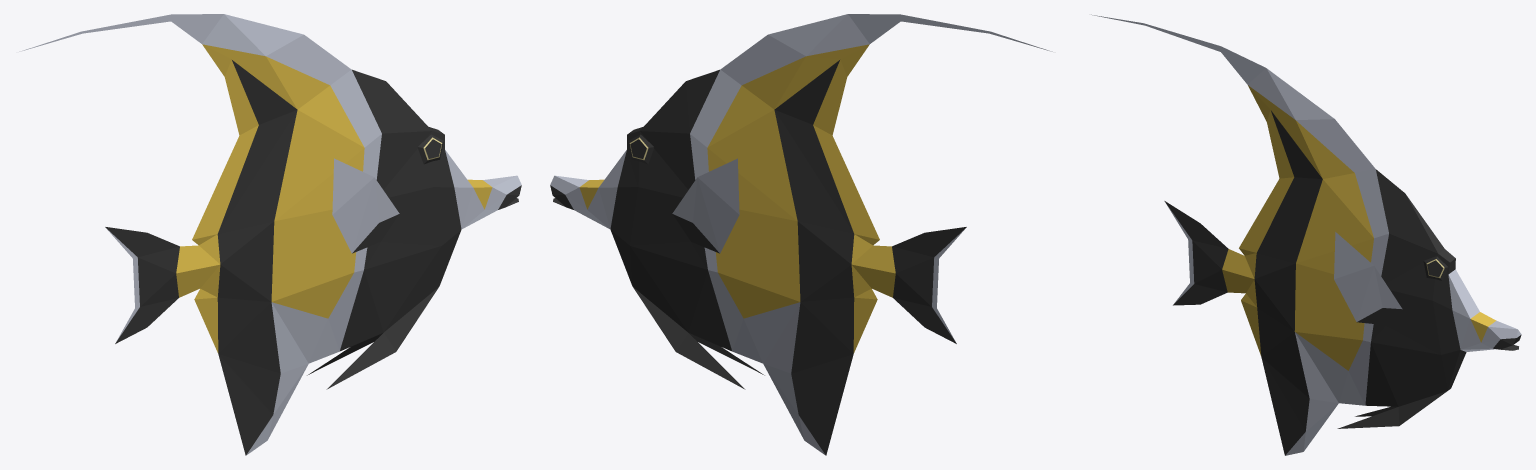
Rendered from Moorish Idol.fbx.
The picture shows the model from 3 angles, left to right: view 1: azimuth 30°, elevation 25°; view 2: azimuth 150°, elevation 25°; view 3: azimuth 330°, elevation 25°; orthographic projection. The views are drawn at different scales.
Visible parts, largest first — view 1: Moorish Idol; view 2: Moorish Idol; view 3: Moorish Idol.
Boxes of the visible parts, box(x1,y1,x2,y2) form: Moorish Idol: box(19, 14, 521, 455); Moorish Idol: box(550, 14, 1052, 455); Moorish Idol: box(1091, 14, 1521, 455).
Bounding box in the file's own units: 1.12 × 0.9846 × 0.1132.
